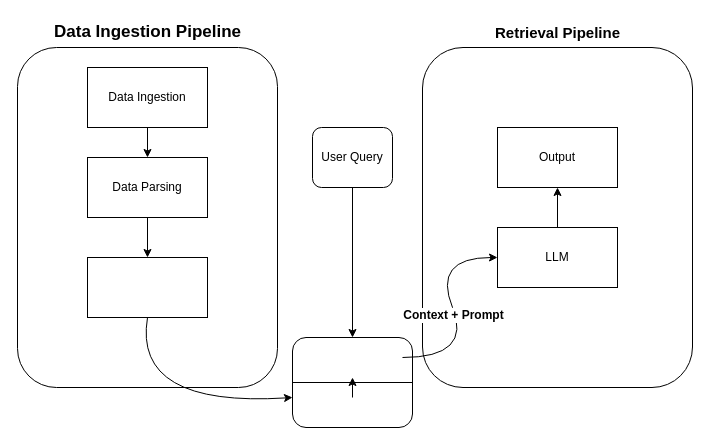
The diagram is 710 pixels wide and 445 high, and some of its shapes have lost their labels. Here are the shapes that lost their labels. From the top down, the centre of each, then its label:
At pixel 147 287: "Embedding".
At pixel 352 382: "Retriever Vector Store".
